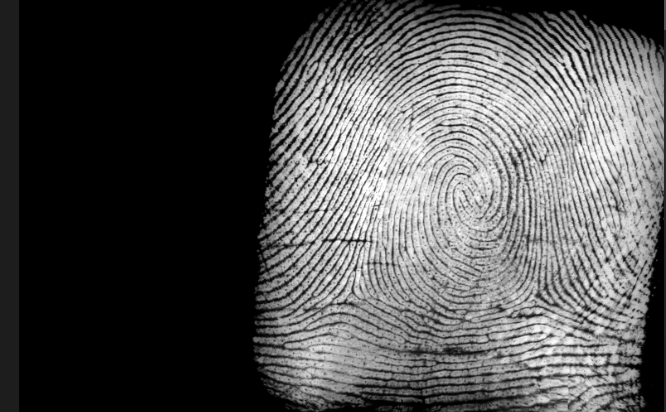nucelo: (444, 175, 483, 215)
verticilo: (516, 282, 556, 322), (337, 274, 368, 309)
